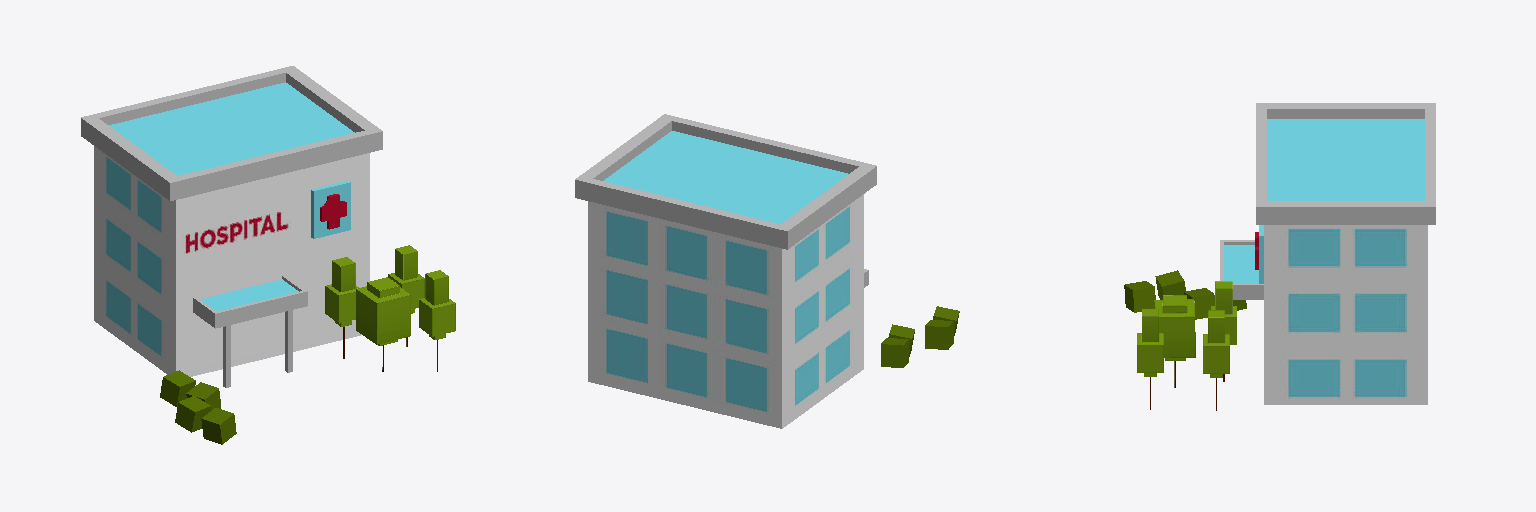
3 views of the same model, side by side, from view 1: azimuth 30°, elevation 25°; view 2: azimuth 150°, elevation 25°; view 3: azimuth 270°, elevation 25° (orthographic).
Visible parts, largest first — view 1: service_hospital_Cube.019, Tree_3_499_2.252_Mesh.9320, Tree_2_3_61.436_Mesh.9318, Tree_2_3_61.435_Mesh.9317, Tree_2_3_61.437_Mesh.9319, Cube_51.154_Mesh.9322, Cube_51.153_Mesh.9321, Cube_51.155_Mesh.9323, Cube_51.156_Mesh.9324; view 2: service_hospital_Cube.019, Cube_51.153_Mesh.9321, Cube_51.155_Mesh.9323; view 3: service_hospital_Cube.019, Tree_3_499_2.252_Mesh.9320, Tree_2_3_61.436_Mesh.9318, Tree_2_3_61.437_Mesh.9319, Tree_2_3_61.435_Mesh.9317, Cube_51.154_Mesh.9322, Cube_51.153_Mesh.9321, Cube_51.156_Mesh.9324.
Boxes of the visible parts, <box> form: service_hospital_Cube.019: <box>81,66,382,387</box>; Tree_3_499_2.252_Mesh.9320: <box>356,277,410,371</box>; Tree_2_3_61.436_Mesh.9318: <box>419,270,455,371</box>; Tree_2_3_61.435_Mesh.9317: <box>325,257,358,358</box>; Tree_2_3_61.437_Mesh.9319: <box>388,245,424,346</box>; Cube_51.154_Mesh.9322: <box>201,408,236,444</box>; Cube_51.153_Mesh.9321: <box>175,396,210,432</box>; Cube_51.155_Mesh.9323: <box>160,370,195,406</box>; Cube_51.156_Mesh.9324: <box>186,382,220,411</box>; service_hospital_Cube.019: <box>575,114,876,428</box>; Cube_51.153_Mesh.9321: <box>925,320,953,349</box>; Cube_51.155_Mesh.9323: <box>881,338,908,367</box>; service_hospital_Cube.019: <box>1220,103,1435,404</box>; Tree_3_499_2.252_Mesh.9320: <box>1154,295,1195,387</box>; Tree_2_3_61.436_Mesh.9318: <box>1137,309,1163,409</box>; Tree_2_3_61.437_Mesh.9319: <box>1203,310,1229,410</box>; Tree_2_3_61.435_Mesh.9317: <box>1211,281,1236,381</box>; Cube_51.154_Mesh.9322: <box>1124,281,1155,312</box>; Cube_51.153_Mesh.9321: <box>1155,270,1185,299</box>; Cube_51.156_Mesh.9324: <box>1184,288,1214,319</box>.
Size of the model in its own units: 1.77 by 1.36 by 1.83.
Materials: 4 (3 with a texture image).